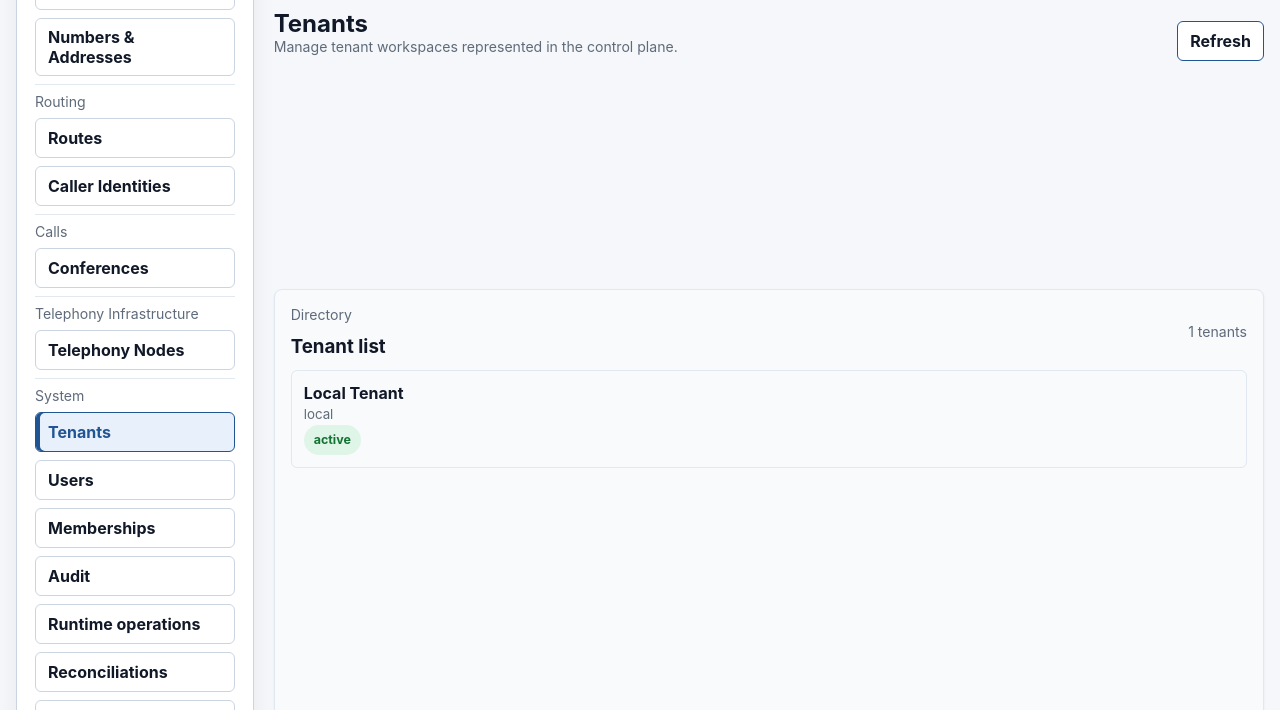
Test: C1 App shell › keeps in-app RuntimeNode navigation to one catalog and one list request
(page scrolled)
Click the link "Telephony Nodes": (135, 350) x1=35 y1=330 x2=235 y2=370
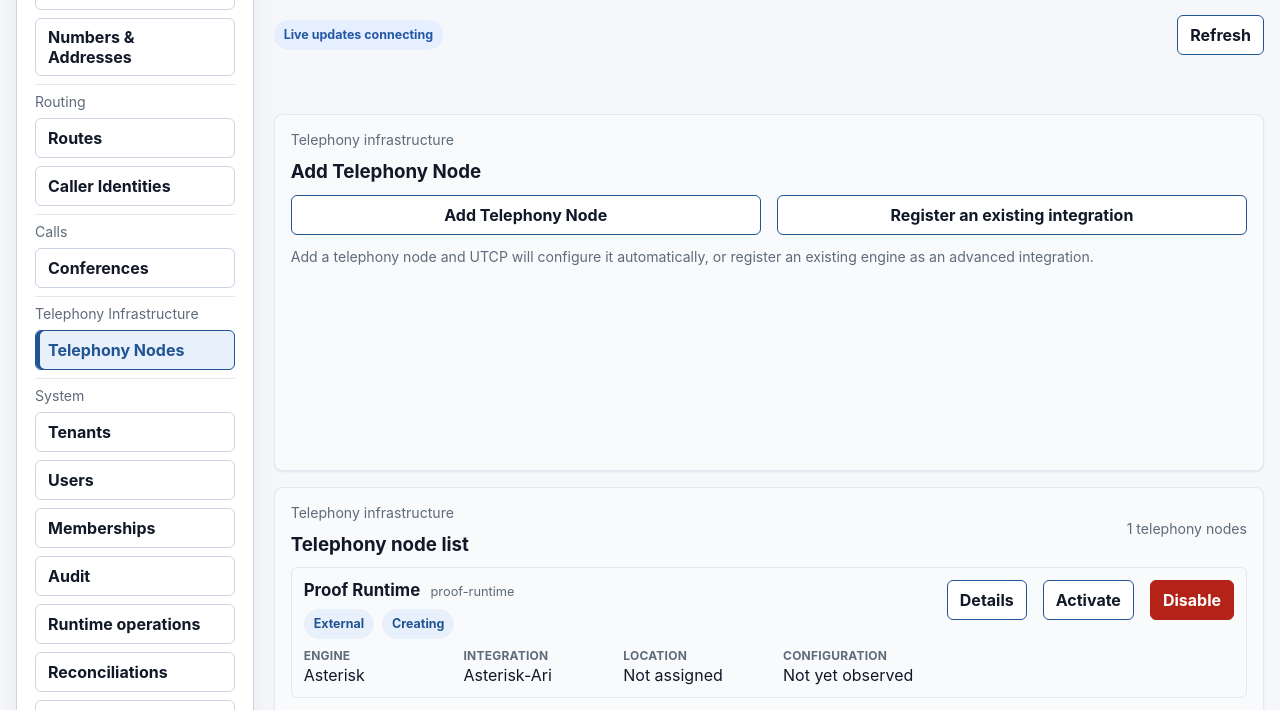
Check: the text "Proof Runtime" is shown, box x1=304 y1=580 x2=420 y2=600
